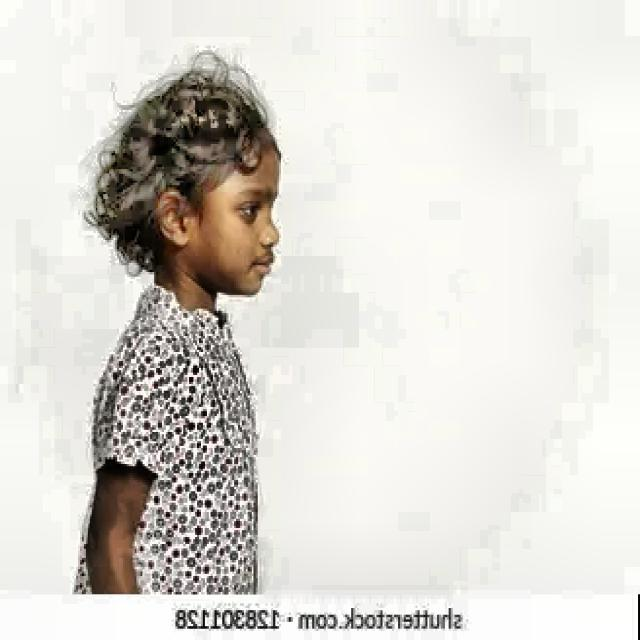Human: (54, 67, 321, 633)
